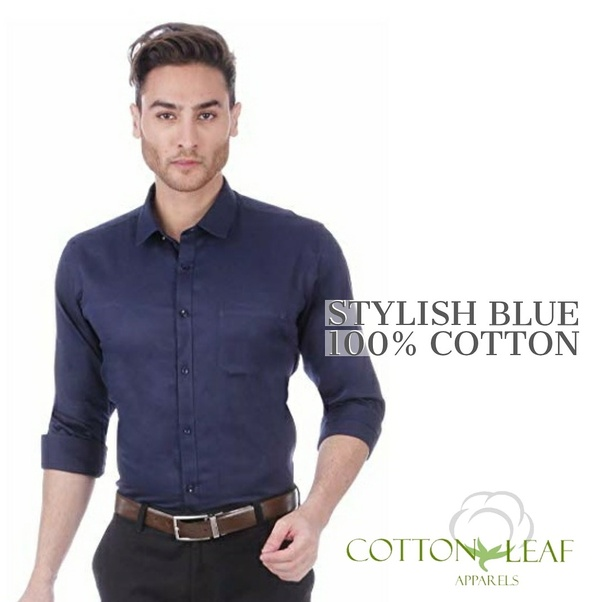F_belt: (112, 492, 300, 540)
F_shirt: (28, 185, 393, 504)
